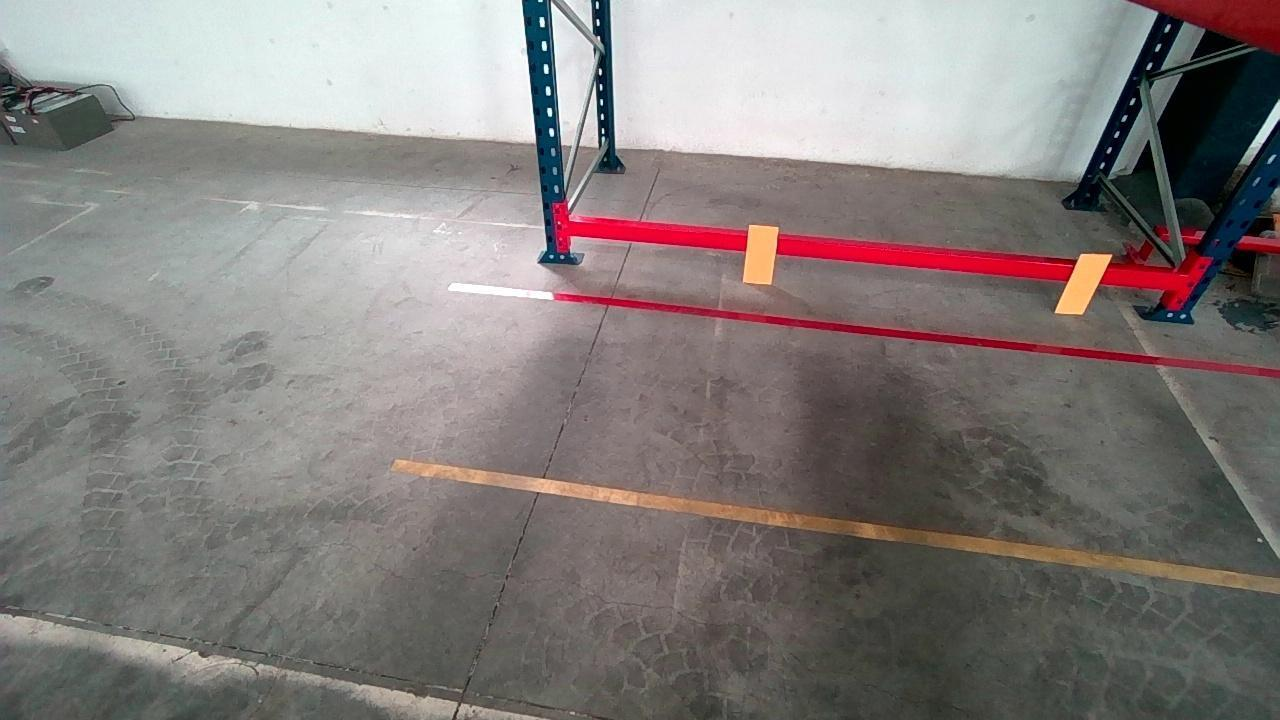h_rack: (561, 223, 1183, 291)
orange_strip: (1056, 252, 1115, 312), (745, 224, 777, 282)
red_line: (443, 281, 1280, 383)
yellow_line: (391, 457, 1280, 595)
